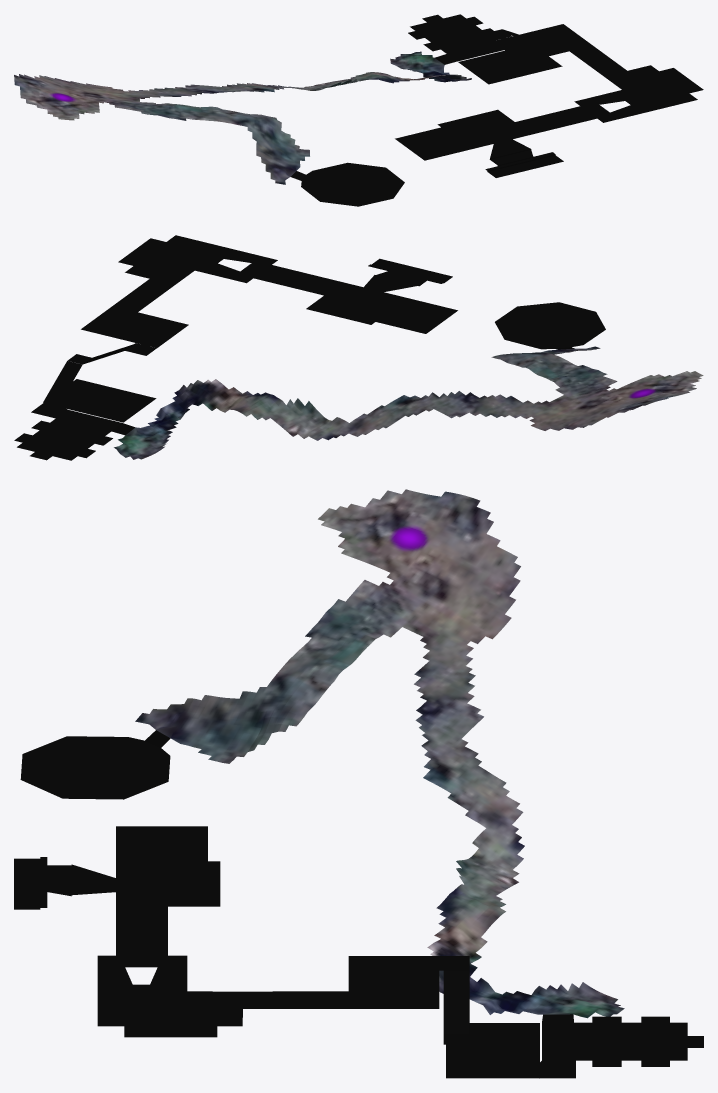
The picture shows the model from 3 angles, top to bottom: view 1: azimuth 30°, elevation 25°; view 2: azimuth 150°, elevation 25°; view 3: azimuth 270°, elevation 25°; orthographic projection. The views are drawn at different scales.
Parts seen in each view (by area): view 1: CollisionAug10a; view 2: CollisionAug10a; view 3: CollisionAug10a.
Boxes of the visible parts, box(x1,y1,x2,y2) form: CollisionAug10a: box(14, 14, 703, 206); CollisionAug10a: box(14, 235, 703, 460); CollisionAug10a: box(14, 489, 703, 1078).
Bounding box in the file's own units: 259 × 51.09 × 171.
Materials: 2 (1 with a texture image).
